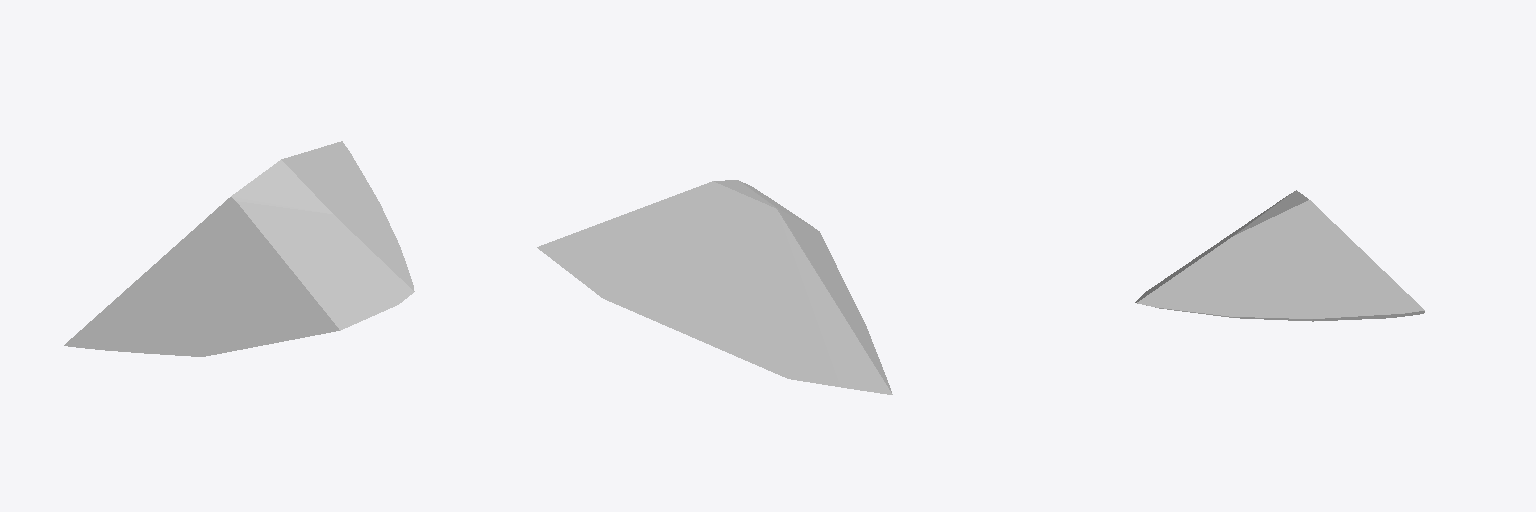
Rendered from Sphere_Cell_Fracture12.obj.
3 renders of one model, left to right at view 1: azimuth 30°, elevation 25°; view 2: azimuth 150°, elevation 25°; view 3: azimuth 270°, elevation 25°, orthographic.
Bounding box in the file's own units: 0.352 × 0.1605 × 0.2785.